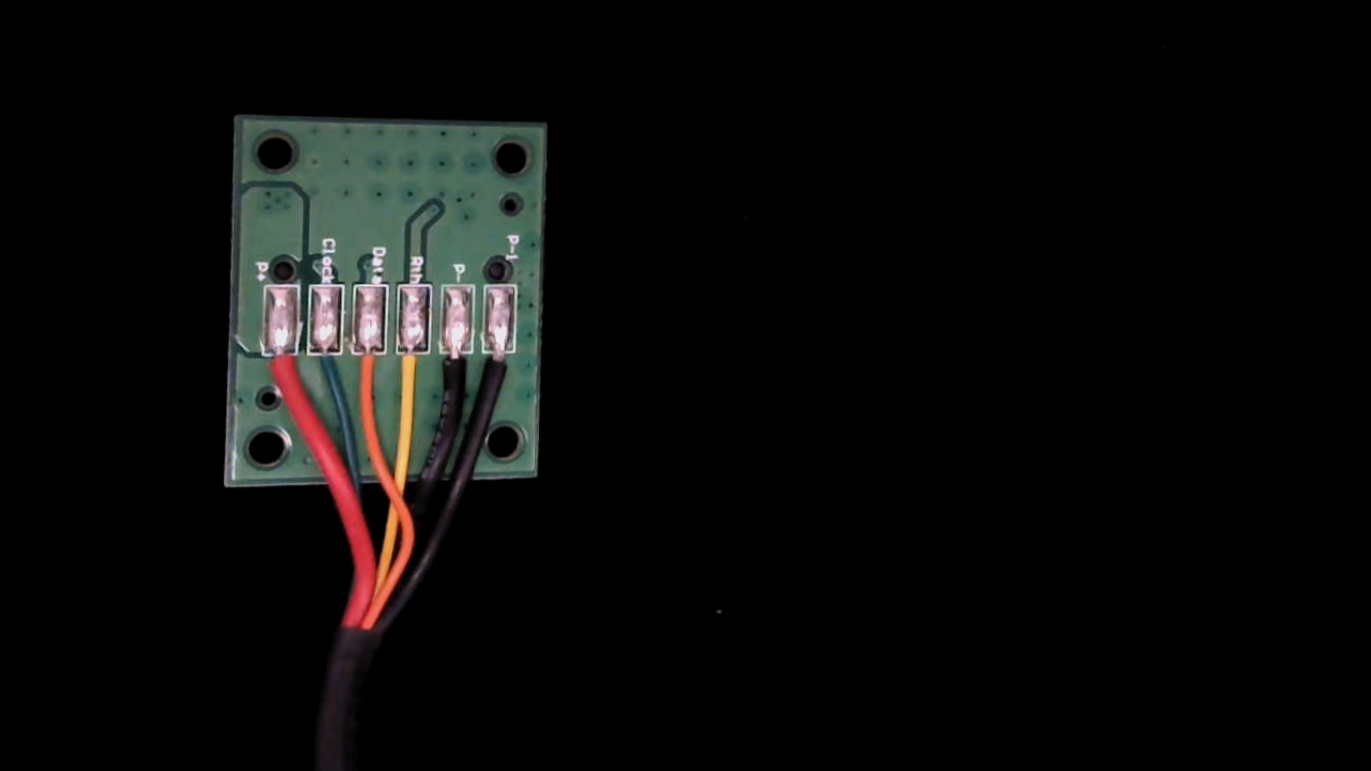Black: (433, 332, 474, 412)
Black1: (480, 334, 519, 407)
Green: (301, 332, 342, 408)
Orange: (350, 332, 389, 410)
Red: (258, 330, 299, 406)
Yellow: (390, 331, 431, 412)
